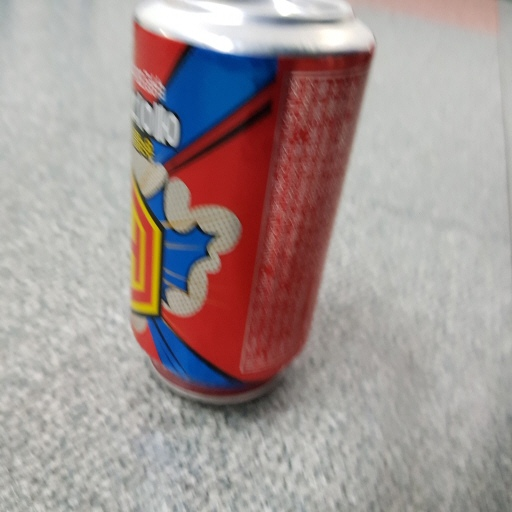Metal_0: (124, 1, 376, 411)
